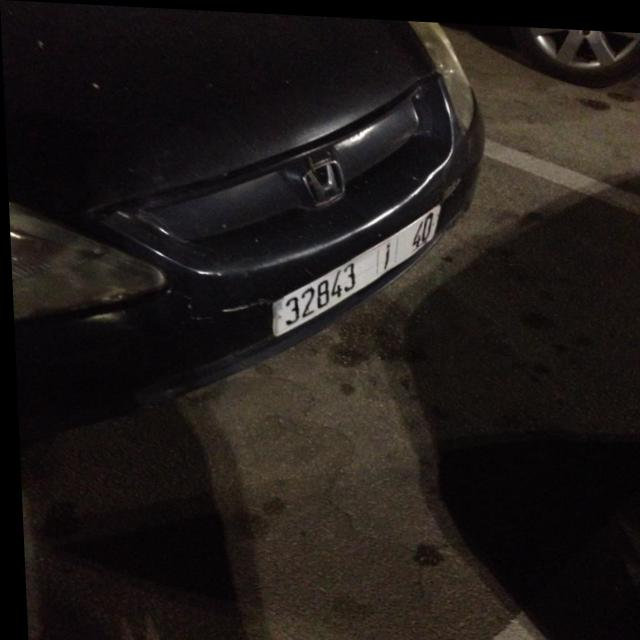License-Plate: (269, 201, 438, 333)
